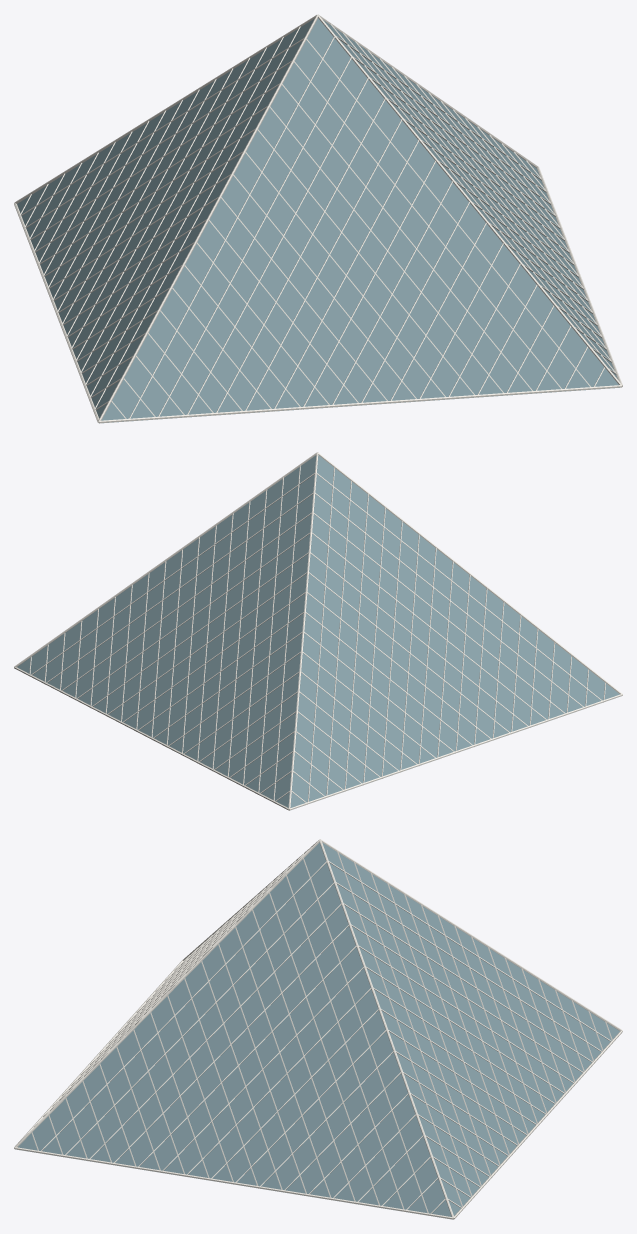
The picture shows the model from 3 angles, top to bottom: view 1: azimuth 30°, elevation 25°; view 2: azimuth 150°, elevation 25°; view 3: azimuth 270°, elevation 25°; orthographic projection. The views are drawn at different scales.
Visible parts, largest first — view 1: roof, trim; view 2: roof, trim; view 3: roof, trim.
Boxes of the visible parts, <box> form: roof: <box>17,18,619,423</box>; trim: <box>14,14,622,423</box>; roof: <box>17,455,619,807</box>; trim: <box>14,452,622,810</box>; roof: <box>15,843,619,1218</box>; trim: <box>14,839,622,1219</box>.
Bounding box in the file's own units: 47.89 × 21.72 × 47.66.
